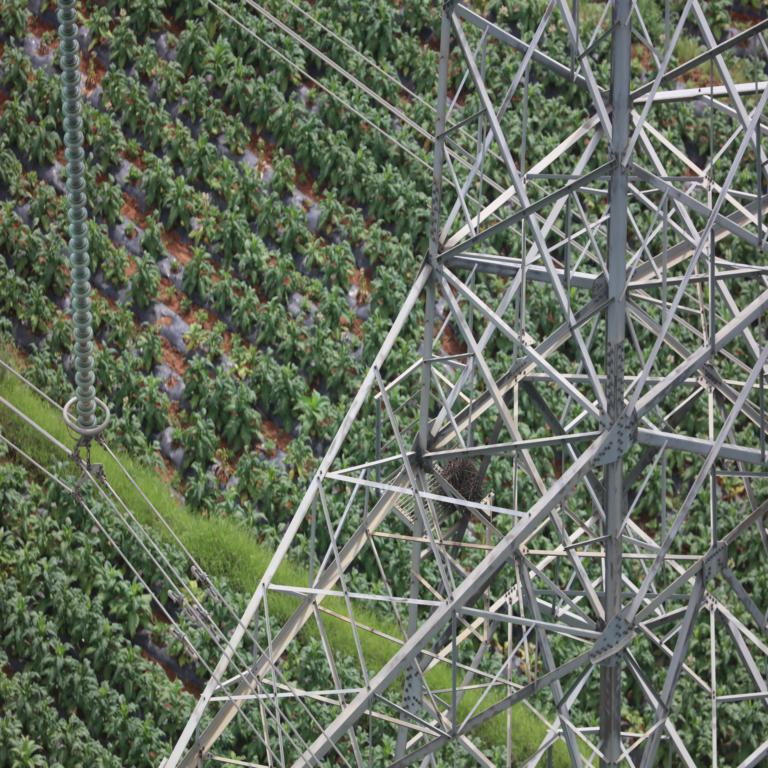nest: (435, 457, 478, 510)
